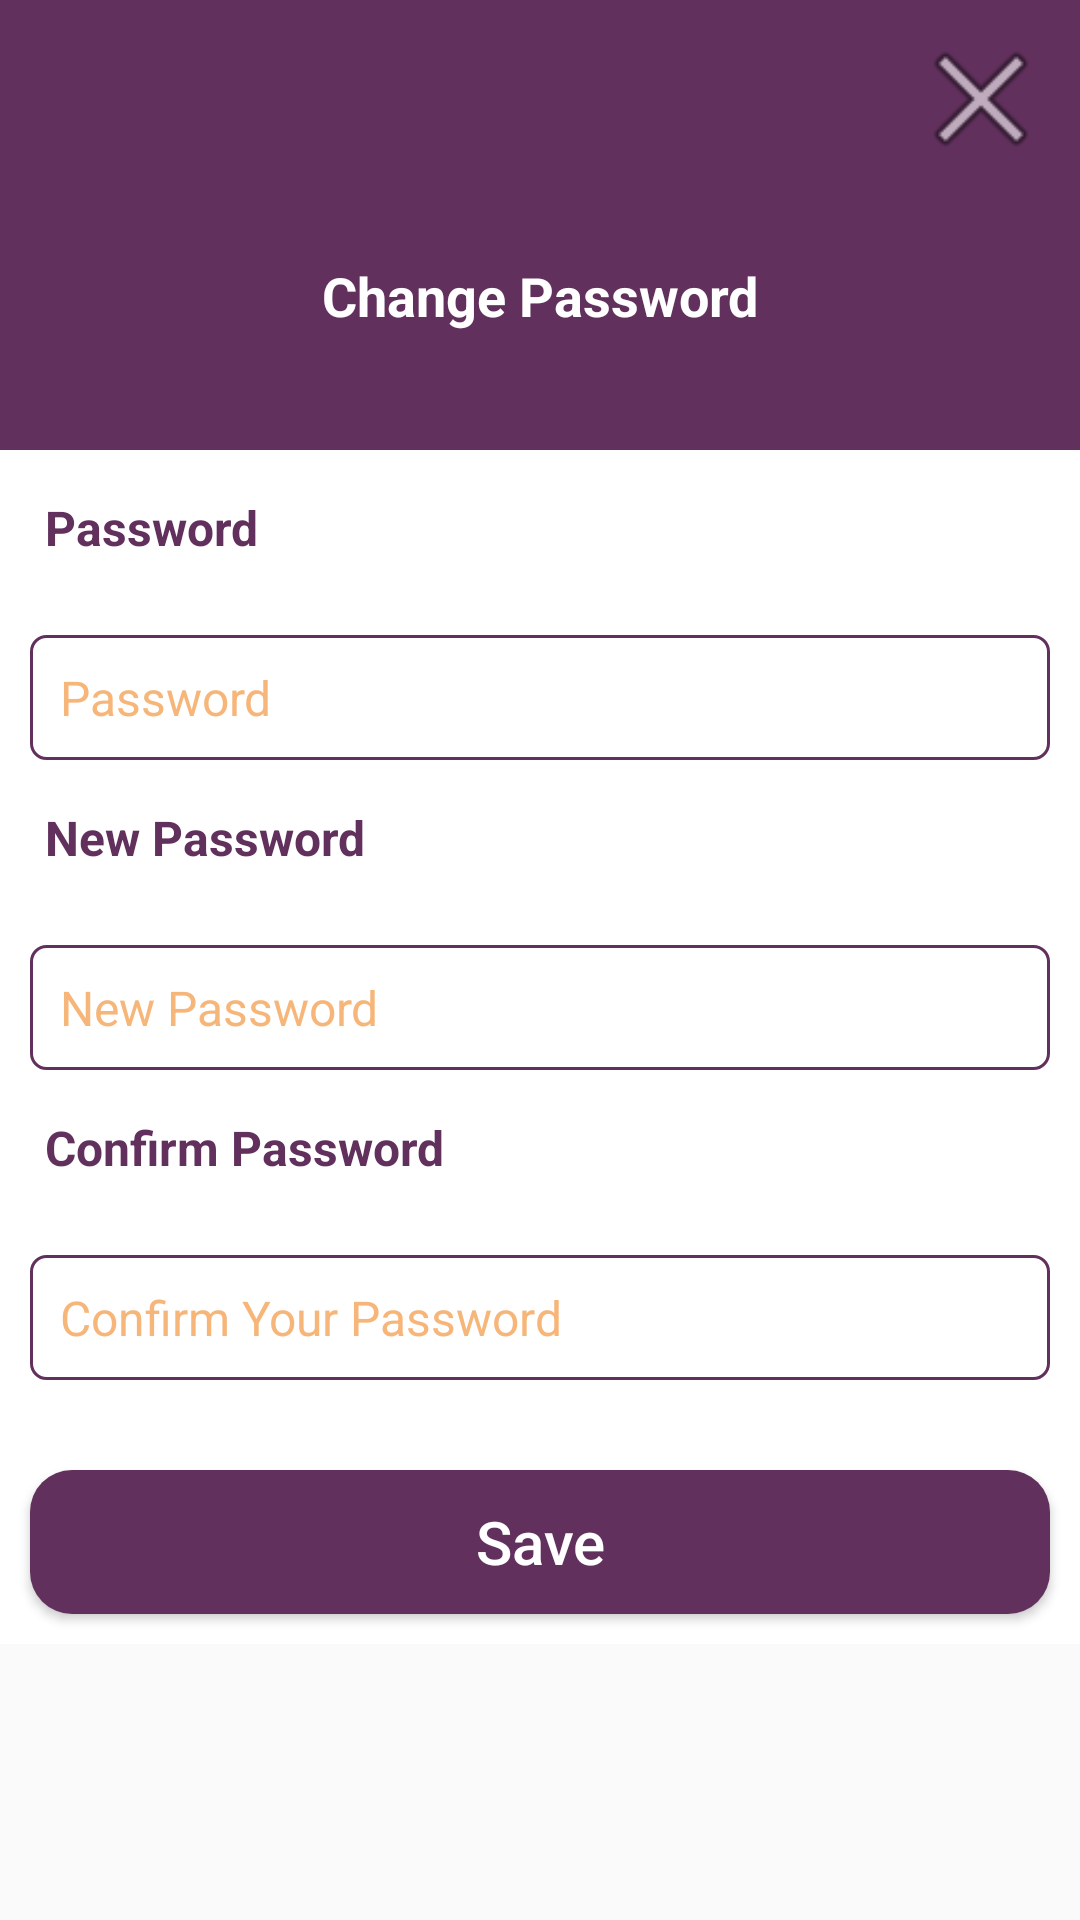

Where to tap for icons on this 1080w x 1920h app screen, as (x=x, y=y):
close clear cancel: (x=981, y=99)
